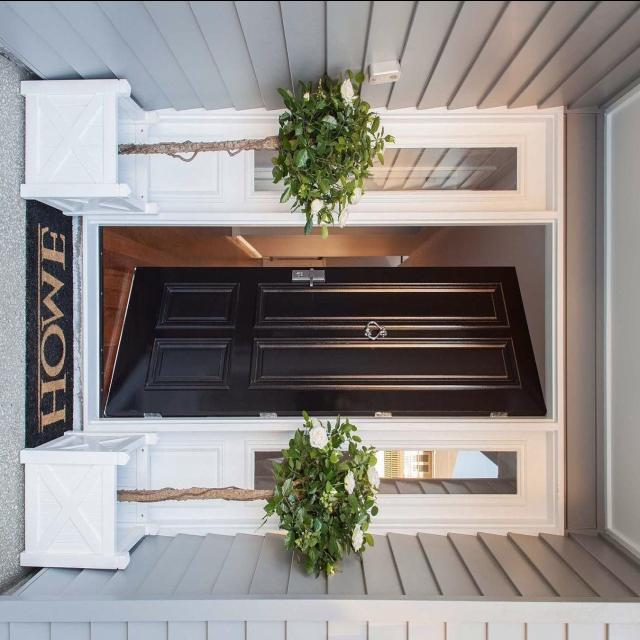open: (94, 222, 546, 418)
